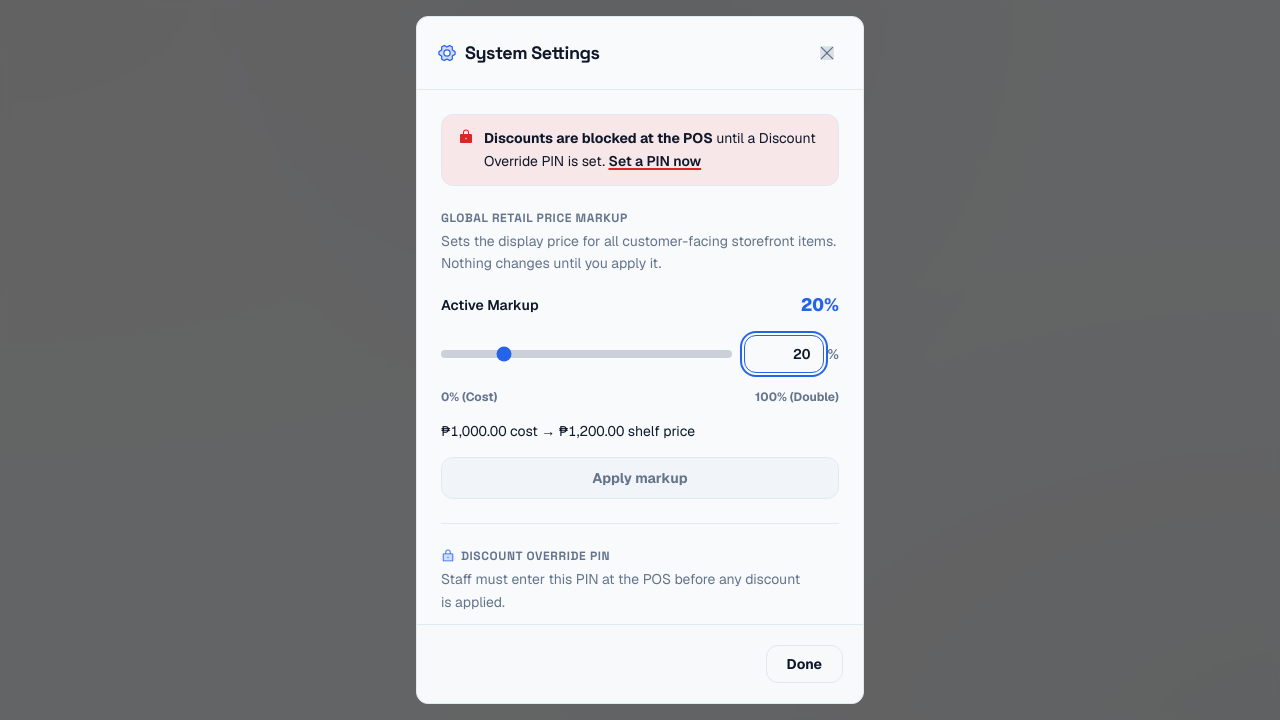
Scenario: AdminSettings — markup › enables Apply markup only when the draft differs from the saved value
The width and height of the screenshot is (1280, 720).
Expected: the button "Apply markup" is disabled, [441, 457, 839, 499]
Replace the text in the number field named "markup percentage" with "25": [784, 354] box [744, 335, 824, 373]
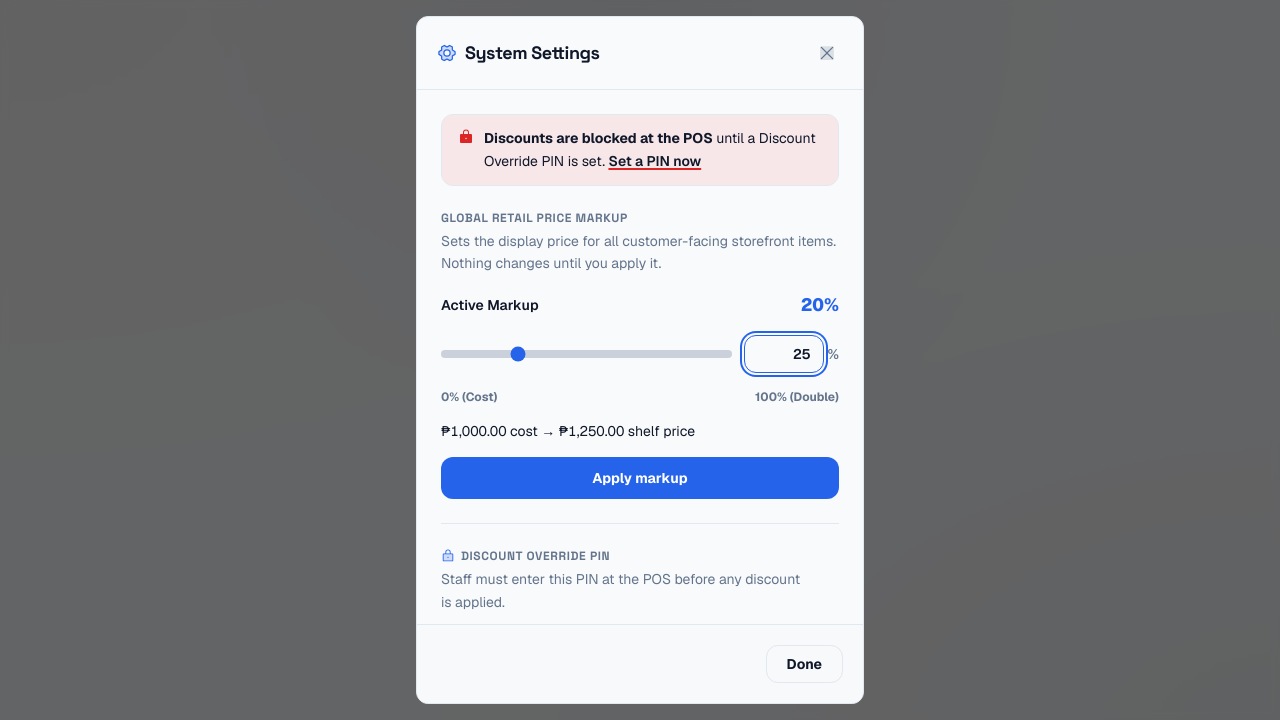
Result: the button "Apply markup" is enabled at [441, 457, 839, 499]
Replace the text in the number field named "markup percentage" with "20": [784, 354] box [744, 335, 824, 373]
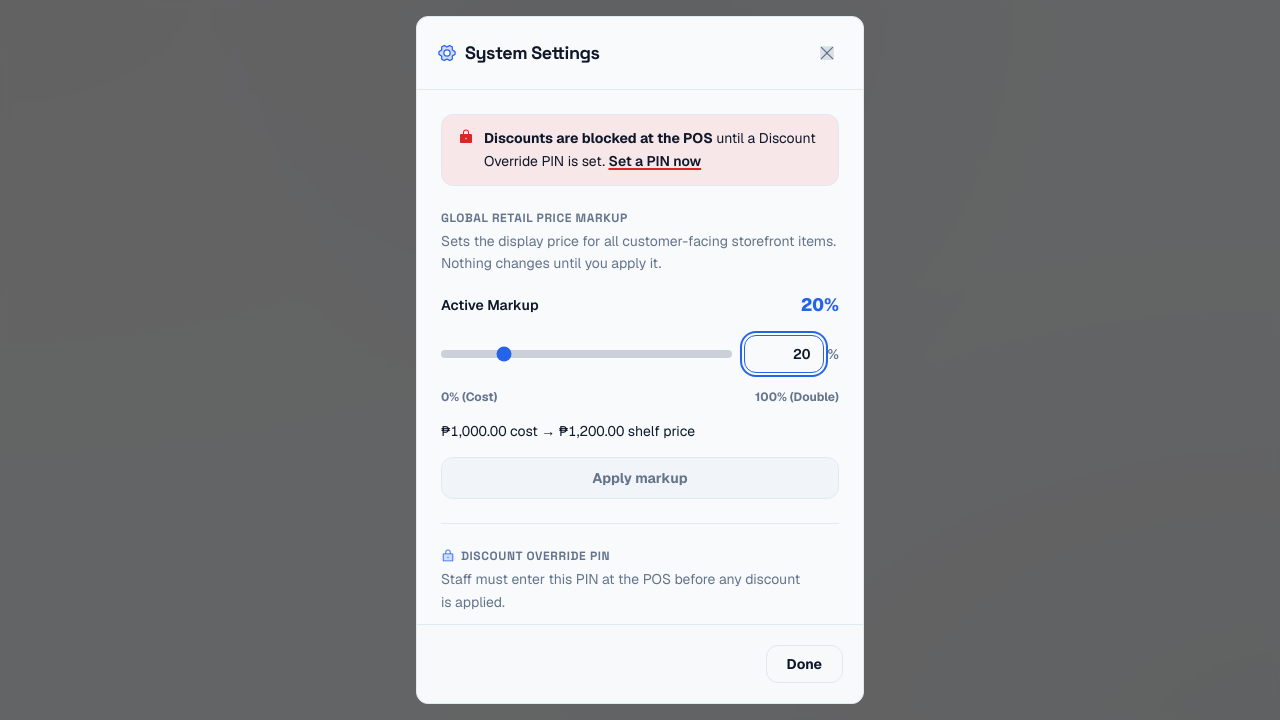
Result: the button "Apply markup" is disabled at [441, 457, 839, 499]
